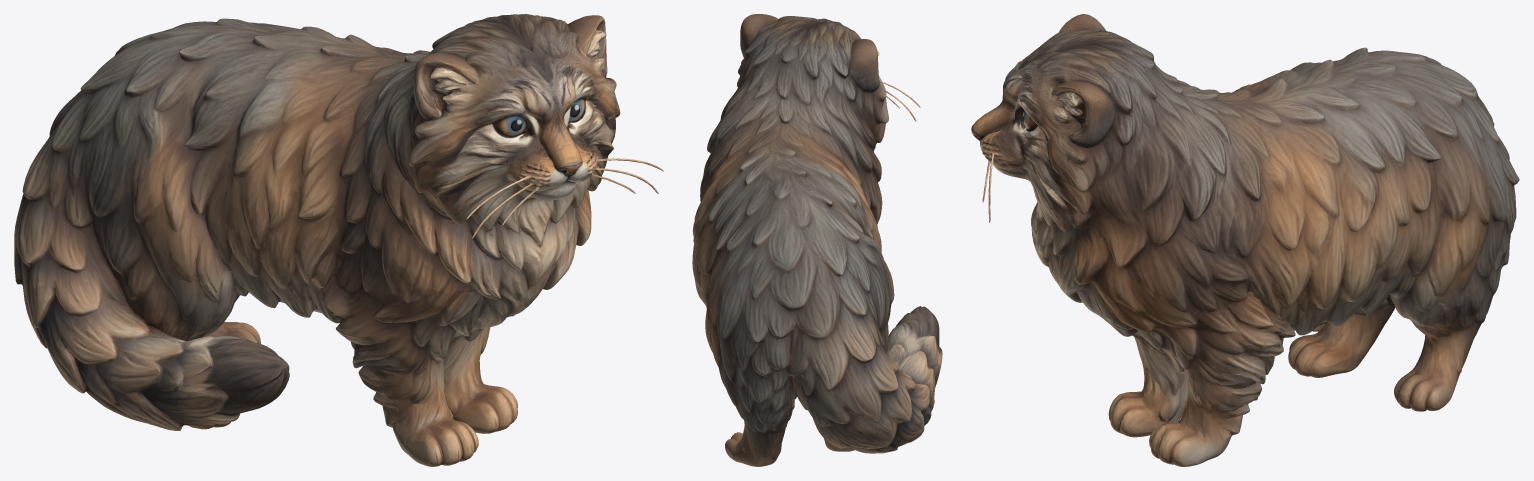
Rendered from Pallas_Cat.glb.
3 views of the same model, side by side, from view 1: azimuth 30°, elevation 25°; view 2: azimuth 150°, elevation 25°; view 3: azimuth 270°, elevation 25° (orthographic). The views are drawn at different scales.
Parts seen in each view (by area): view 1: output_unwrapped; view 2: output_unwrapped; view 3: output_unwrapped.
Boxes of the visible parts, x1,y1,x2,y2 form: output_unwrapped: (14,14,663,466); output_unwrapped: (692,14,942,466); output_unwrapped: (971,14,1519,466).
Bounding box in the file's own units: 1.51 × 1.55 × 1.9.
Materials: 1 (1 with a texture image).
